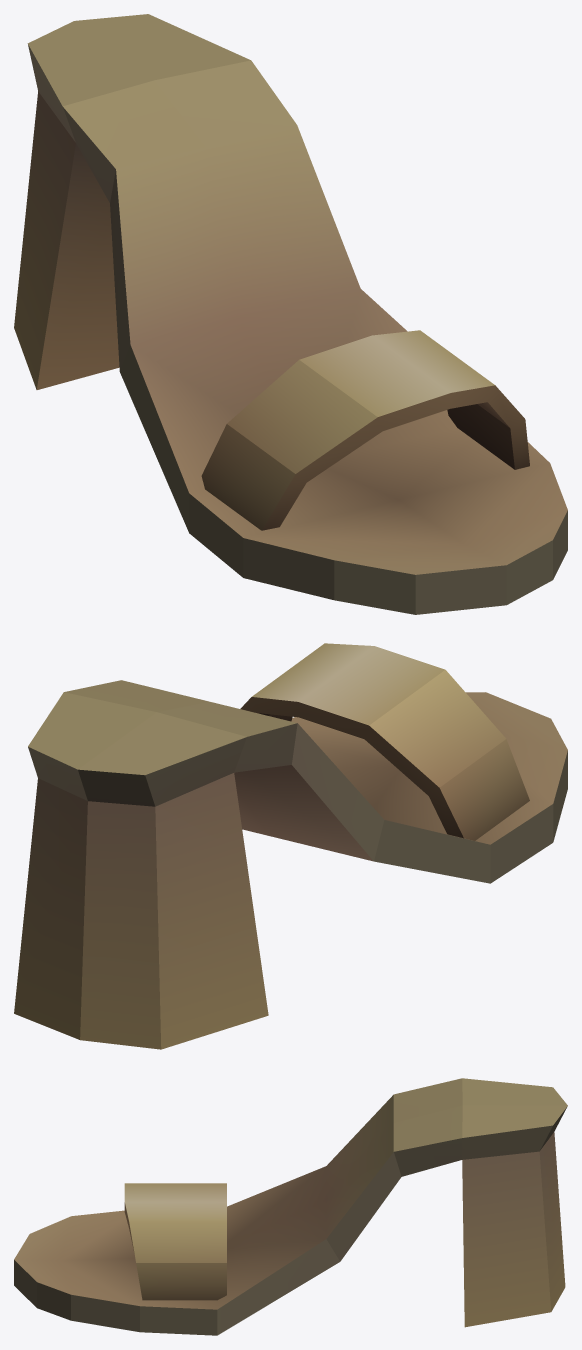
The model's file is human-clothing-heeled-sandal_v1.glb.
The picture shows the model from 3 angles, top to bottom: view 1: azimuth 30°, elevation 25°; view 2: azimuth 150°, elevation 25°; view 3: azimuth 270°, elevation 25°; orthographic projection. The views are drawn at different scales.
Parts seen in each view (by area): view 1: Heeled Sandal; view 2: Heeled Sandal; view 3: Heeled Sandal.
Part boxes in pixels (<box>): Heeled Sandal: <box>14,14,567,614</box>; Heeled Sandal: <box>14,643,567,1049</box>; Heeled Sandal: <box>14,1078,567,1335</box>.
Bounding box in the file's own units: 0.1076 × 0.0915 × 0.25.
